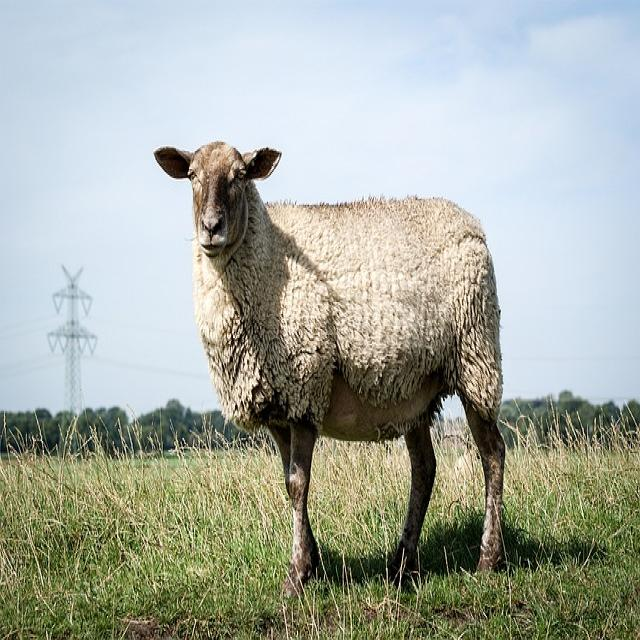goat: (152, 141, 511, 603)
